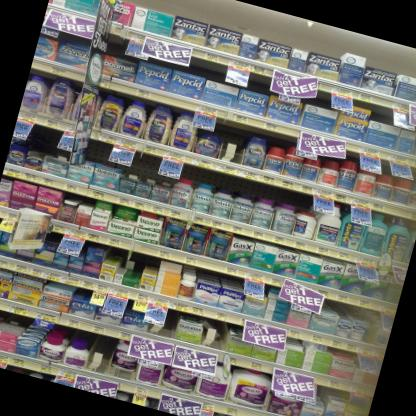empty_space: (85, 332, 116, 375), (146, 304, 181, 339), (199, 317, 231, 351)
